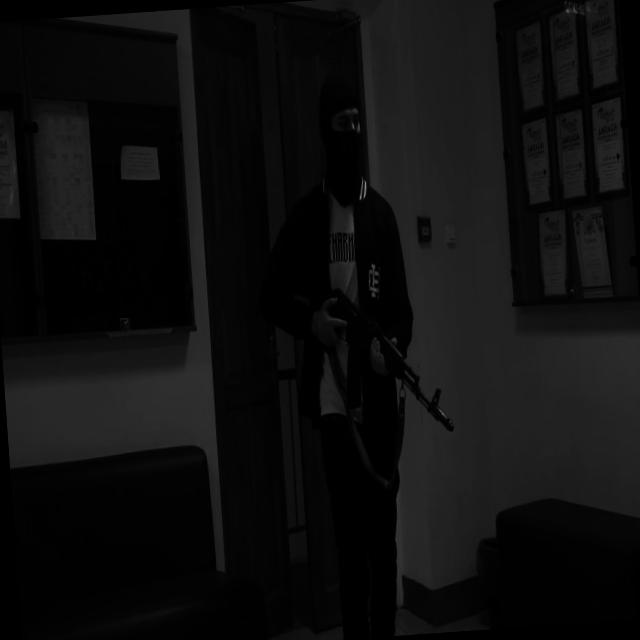gun: (288, 248, 454, 443)
person with a gun: (243, 66, 468, 640)
